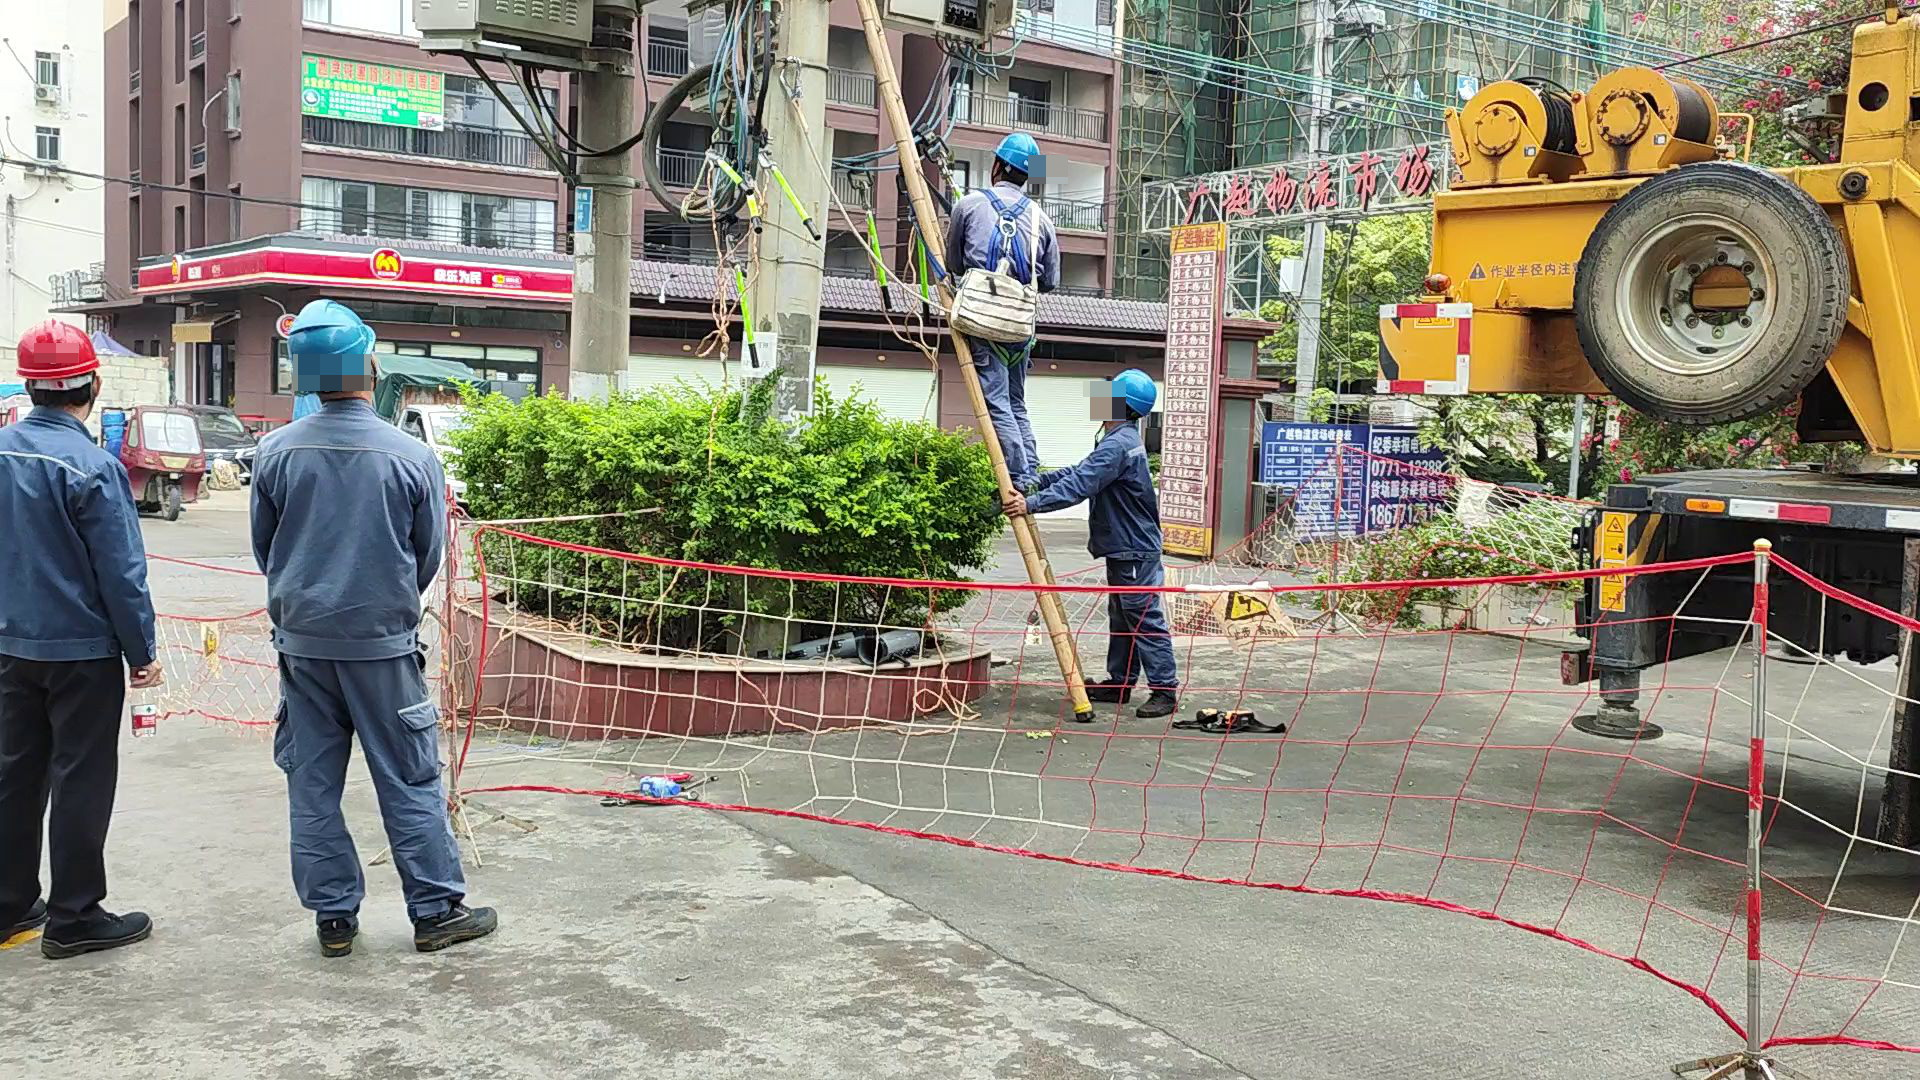downsuit: (274, 672, 471, 916), (1, 674, 128, 914), (974, 342, 1038, 483), (1104, 576, 1177, 687)
halt: (1587, 68, 1696, 173), (284, 300, 379, 394), (11, 319, 104, 406), (1095, 370, 1160, 423), (992, 133, 1042, 180)
hand: (130, 660, 165, 691), (1001, 487, 1028, 521)
inear: (1101, 392, 1129, 425)
person: (243, 296, 491, 960), (1, 317, 165, 954), (1025, 369, 1176, 697), (937, 131, 1061, 500)
safebelt: (903, 119, 1040, 289)
support: (1002, 358, 1194, 724)
upsuit: (246, 403, 456, 657), (1, 413, 161, 664), (1026, 426, 1164, 564), (946, 179, 1061, 285)
